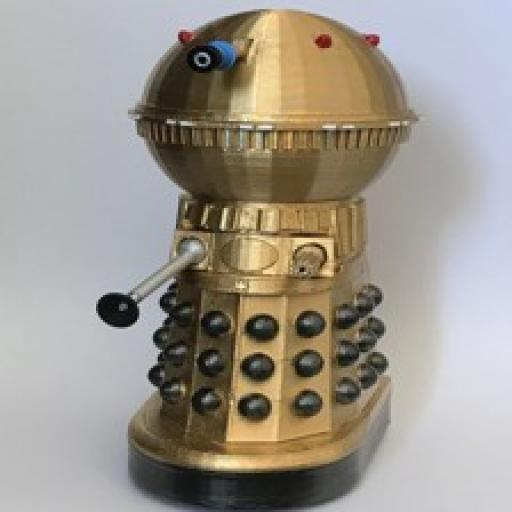dalek: (86, 10, 400, 512)
